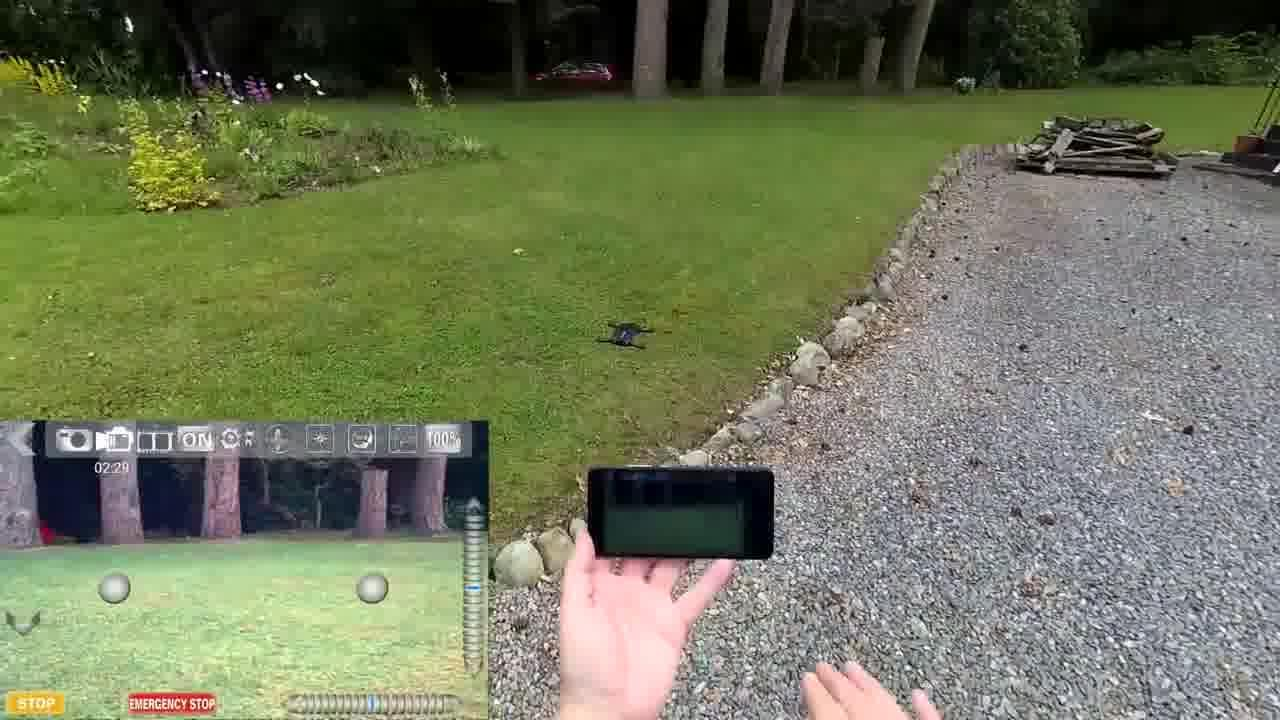drone: (587, 312, 667, 354)
